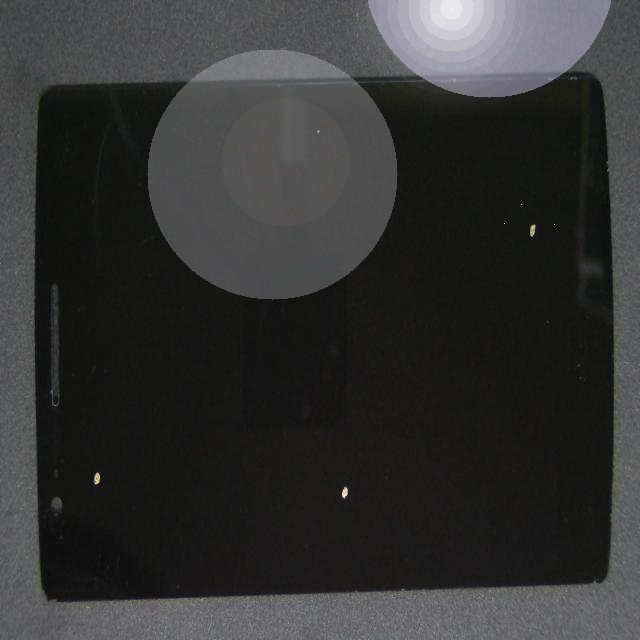stain: (195, 214, 514, 640), (222, 169, 640, 395), (71, 182, 145, 640)
